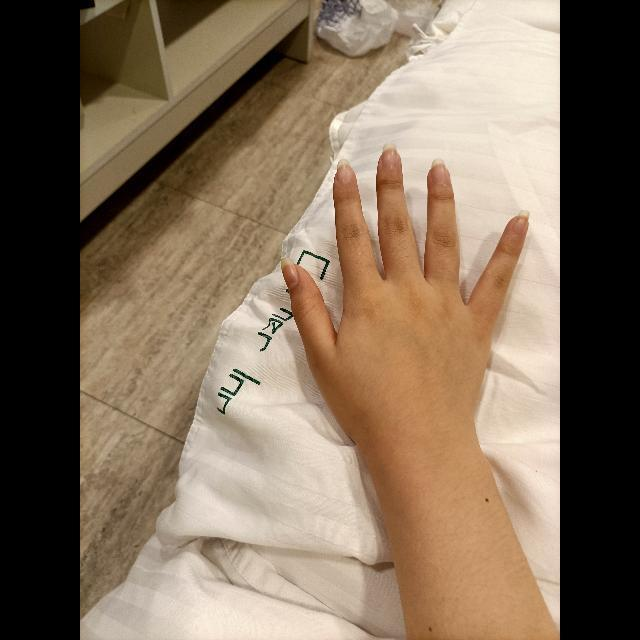bare_hand: (280, 140, 530, 428)
